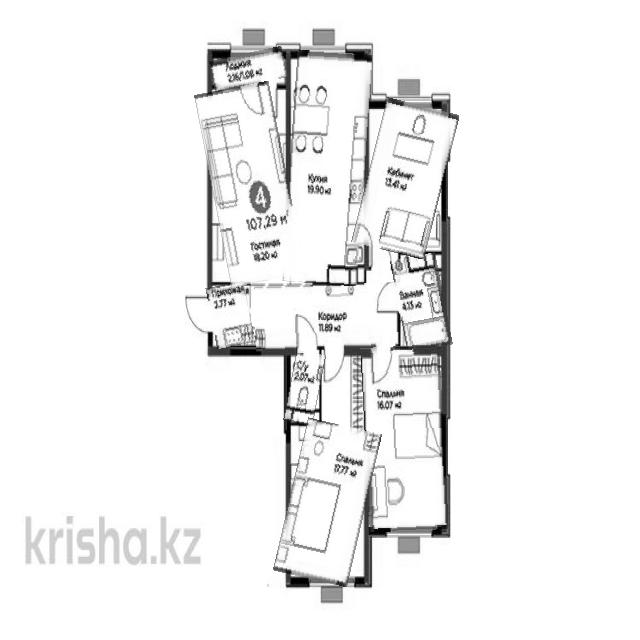balcony: (211, 49, 287, 89)
bathroom: (395, 254, 449, 352), (286, 351, 324, 425)
hallway: (255, 283, 400, 353), (208, 282, 253, 348)
kitchen: (285, 51, 368, 285)
living_room: (203, 83, 297, 285), (363, 345, 446, 532), (282, 421, 374, 584), (360, 101, 451, 256)
